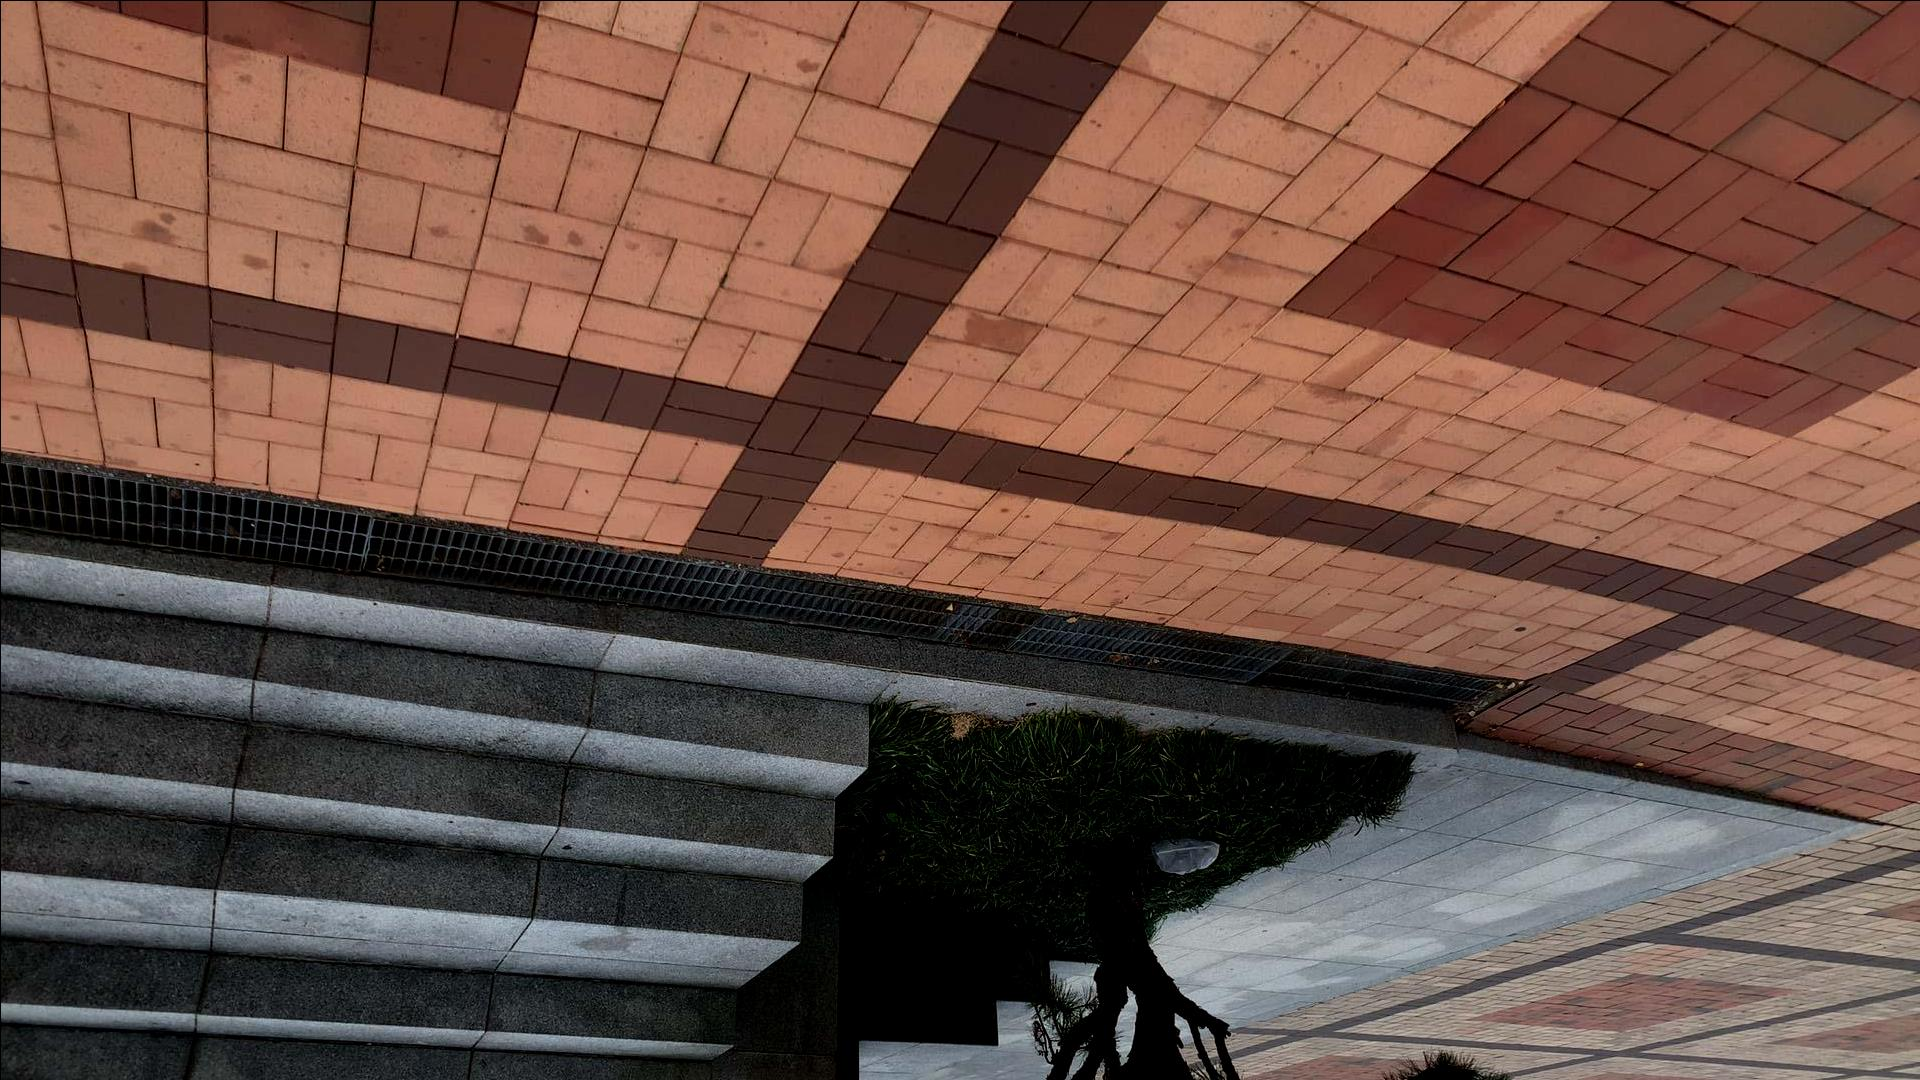white_bag: (1146, 835, 1226, 878)
